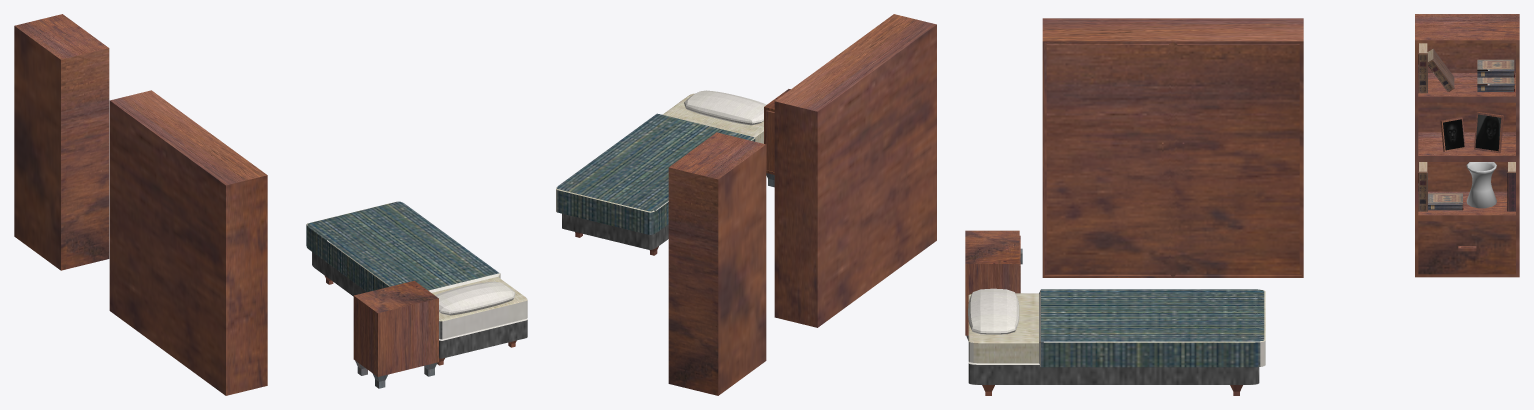
Rendered from BedroomSmall.fbx.
The picture shows the model from 3 angles, left to right: view 1: azimuth 30°, elevation 25°; view 2: azimuth 150°, elevation 25°; view 3: azimuth 270°, elevation 25°; orthographic projection. The views are drawn at different scales.
Parts seen in each view (by area): view 1: LittleTableDining.004; view 2: LittleTableDining.004; view 3: LittleTableDining.004.
Part boxes in pixels (<box>): LittleTableDining.004: <box>14,14,527,395</box>; LittleTableDining.004: <box>556,14,936,395</box>; LittleTableDining.004: <box>965,14,1519,395</box>.
Size of the model in its own units: 227 by 170 by 354.
